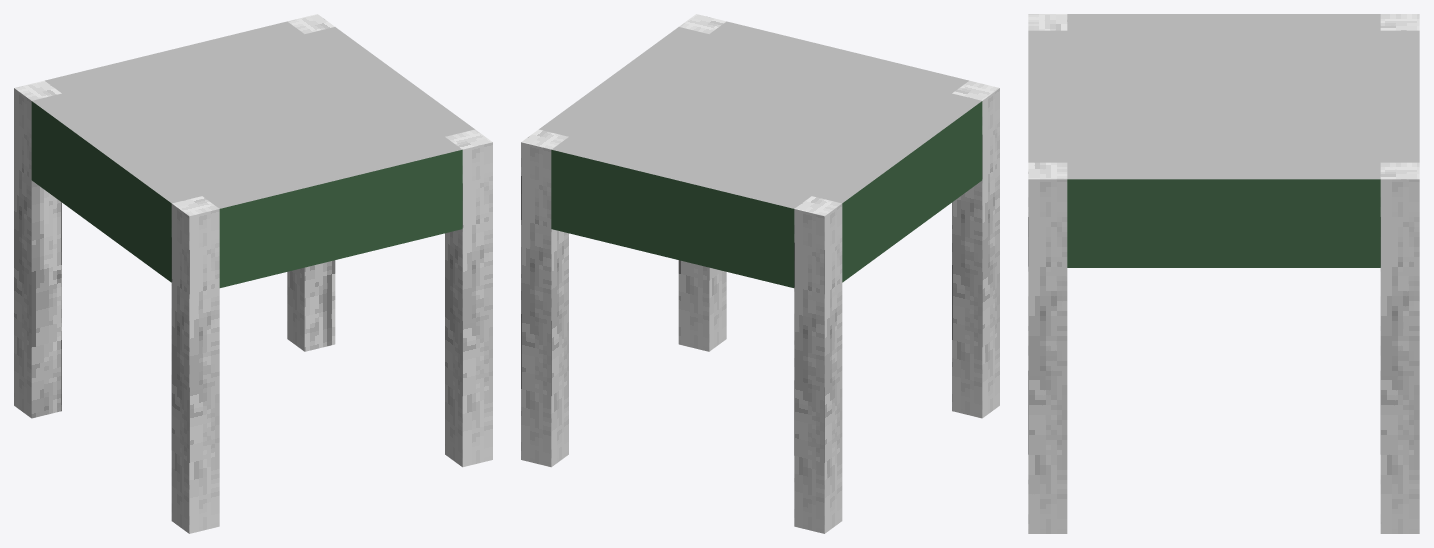
Rendered from structure_wall.dae.
3 views of the same model, side by side, from view 1: azimuth 30°, elevation 25°; view 2: azimuth 150°, elevation 25°; view 3: azimuth 270°, elevation 25° (orthographic). The views are drawn at different scales.
Visible parts, largest first — view 1: structure_wall; view 2: structure_wall; view 3: structure_wall.
Part boxes in pixels (x1,y1,x2,y2): structure_wall: [14, 14, 492, 533]; structure_wall: [521, 14, 999, 533]; structure_wall: [1028, 14, 1419, 533].
Size of the model in its own units: 1 by 1 by 1.
